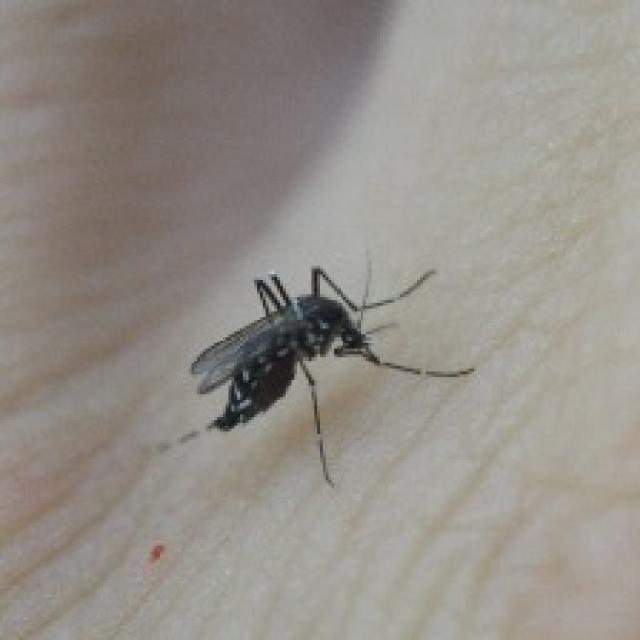aedes: (186, 254, 474, 486)
